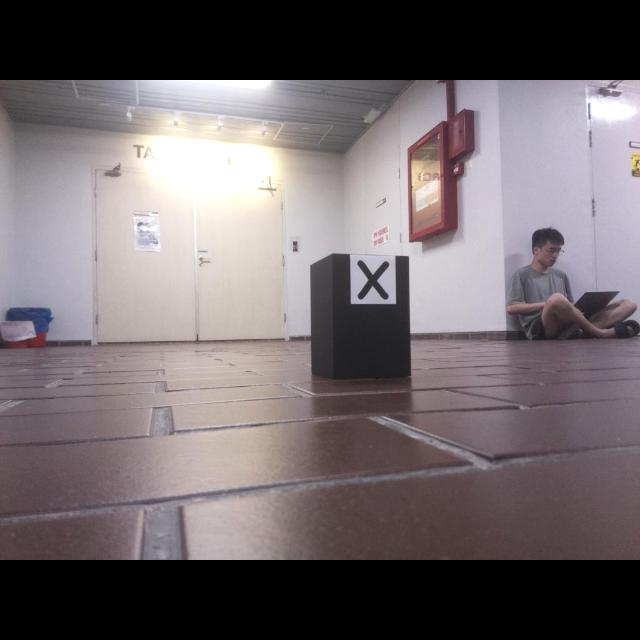X: (357, 259, 390, 301)
